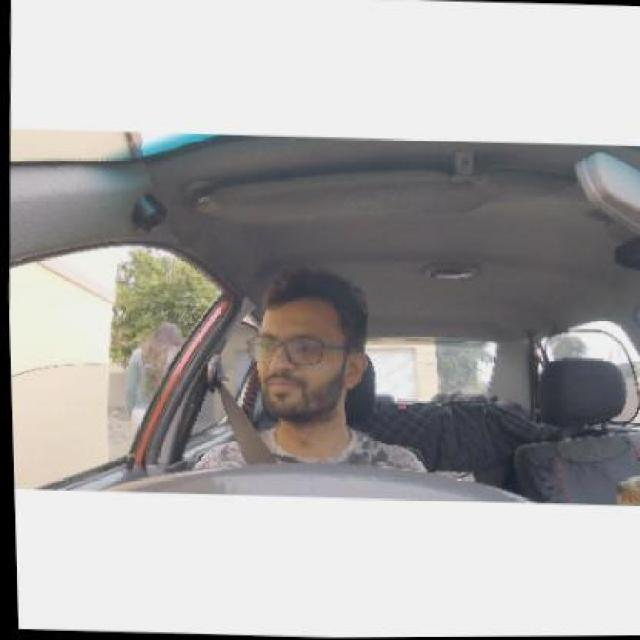LeftRight: (245, 267, 369, 428)
